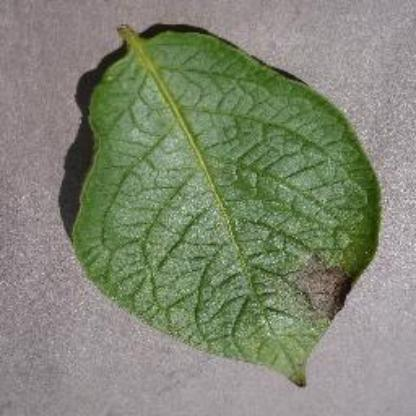Late-Blight: (66, 7, 390, 383)
